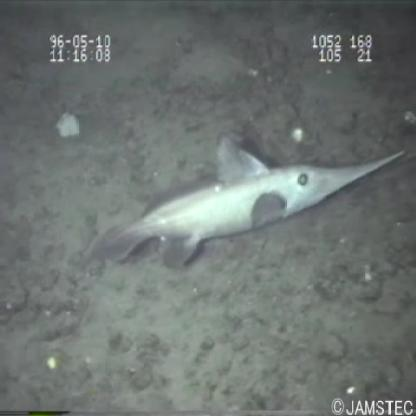Bio: (81, 128, 411, 274)
